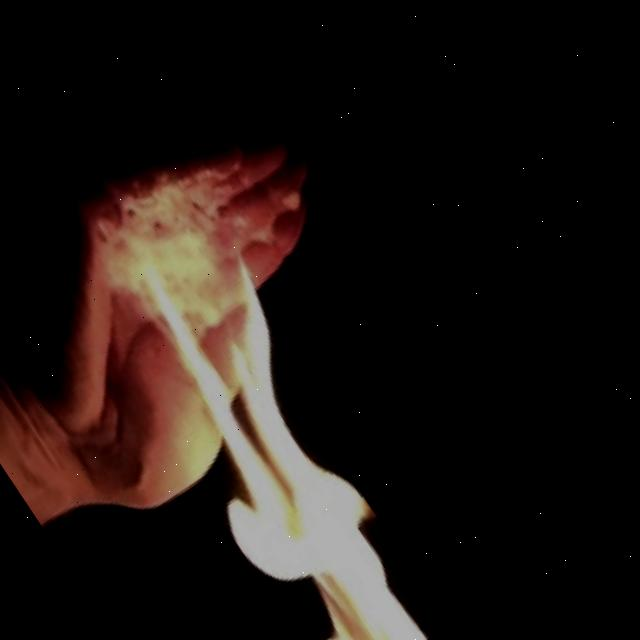Fire: (28, 178, 512, 640)
